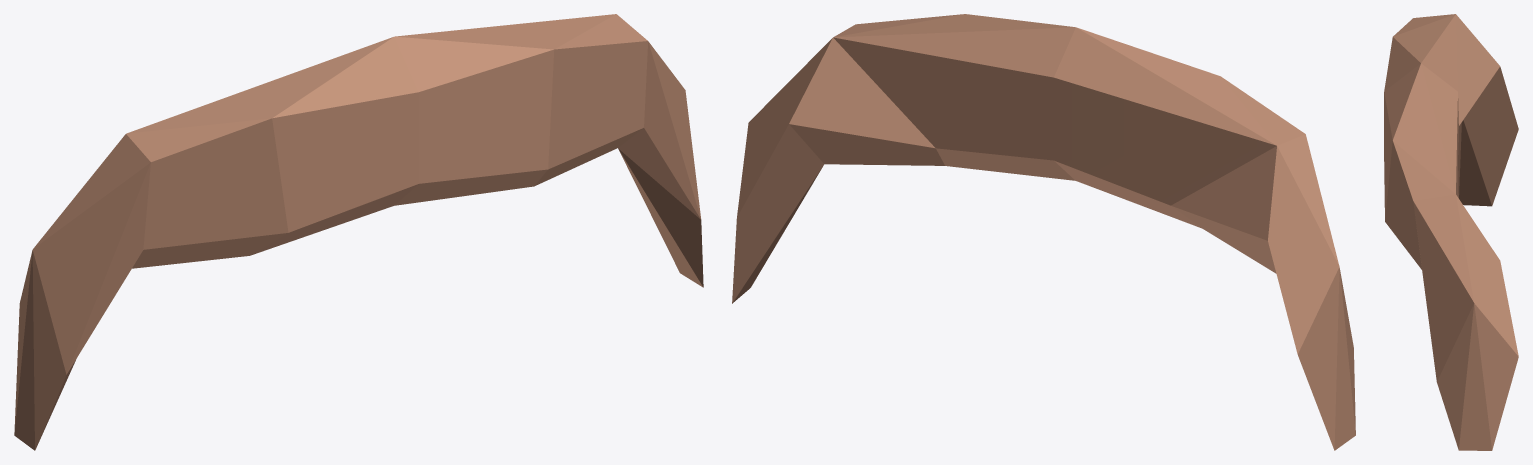
Rendered from Sheriff_Beard_B.fbx.
3 renders of one model, left to right at view 1: azimuth 30°, elevation 25°; view 2: azimuth 150°, elevation 25°; view 3: azimuth 270°, elevation 25°, orthographic. The views are drawn at different scales.
Parts seen in each view (by area): view 1: Sheriff_Beard_B; view 2: Sheriff_Beard_B; view 3: Sheriff_Beard_B.
Boxes of the visible parts, x1,y1,x2,y2 form: Sheriff_Beard_B: [14, 14, 703, 450]; Sheriff_Beard_B: [732, 14, 1355, 450]; Sheriff_Beard_B: [1384, 14, 1518, 450].
Size of the model in its own units: 10.09 by 5.08 by 2.34.
